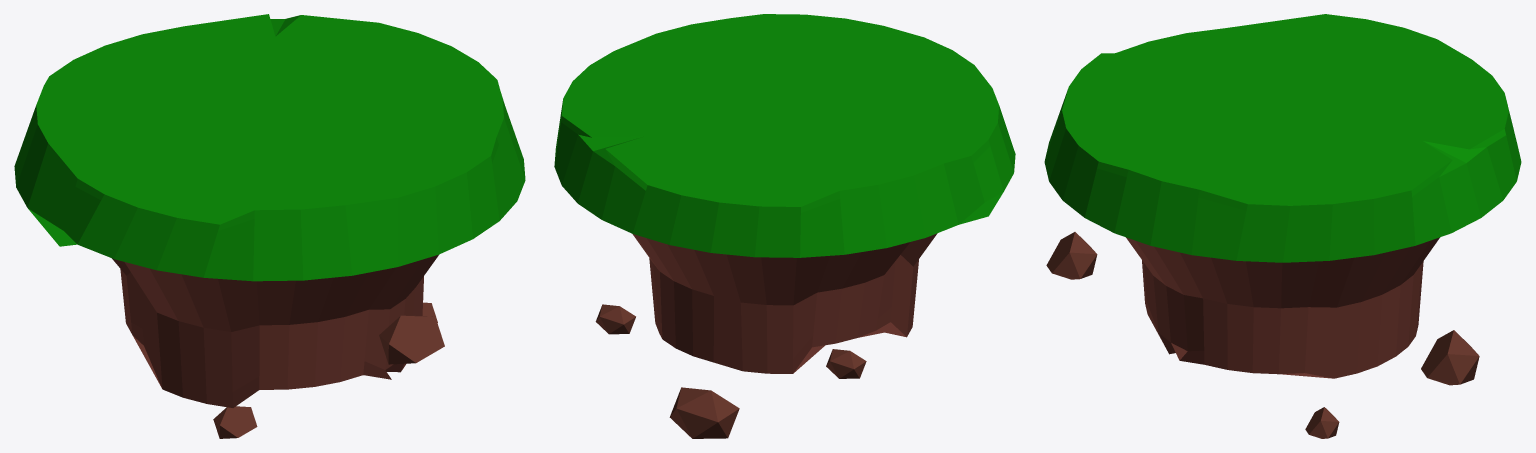
File: floating_island.glb
The picture shows the model from 3 angles, left to right: view 1: azimuth 30°, elevation 25°; view 2: azimuth 150°, elevation 25°; view 3: azimuth 270°, elevation 25°; orthographic projection. The views are drawn at different scales.
Parts seen in each view (by area): view 1: Cylinder, Cylinder.001, Icosphere.001, Icosphere.003; view 2: Cylinder, Cylinder.001, Icosphere, Icosphere.003, Icosphere.002; view 3: Cylinder, Cylinder.001, Icosphere, Icosphere.001, Icosphere.002.
Part boxes in pixels (left/top/right/bottom): Cylinder: left=14, top=14, right=525, bottom=281; Cylinder.001: left=112, top=254, right=438, bottom=407; Icosphere.001: left=379, top=315, right=444, bottom=364; Icosphere.003: left=213, top=406, right=257, bottom=438; Cylinder: left=554, top=14, right=1015, bottom=257; Cylinder.001: left=632, top=233, right=937, bottom=373; Icosphere: left=669, top=387, right=739, bottom=438; Icosphere.003: left=826, top=349, right=866, bottom=378; Icosphere.002: left=595, top=304, right=635, bottom=334; Cylinder: left=1044, top=14, right=1521, bottom=262; Cylinder.001: left=1126, top=237, right=1439, bottom=378; Icosphere: left=1421, top=330, right=1479, bottom=385; Icosphere.001: left=1046, top=232, right=1097, bottom=279; Icosphere.002: left=1305, top=407, right=1339, bottom=438.
Size of the model in its own units: 5.97 by 3.88 by 6.02.
